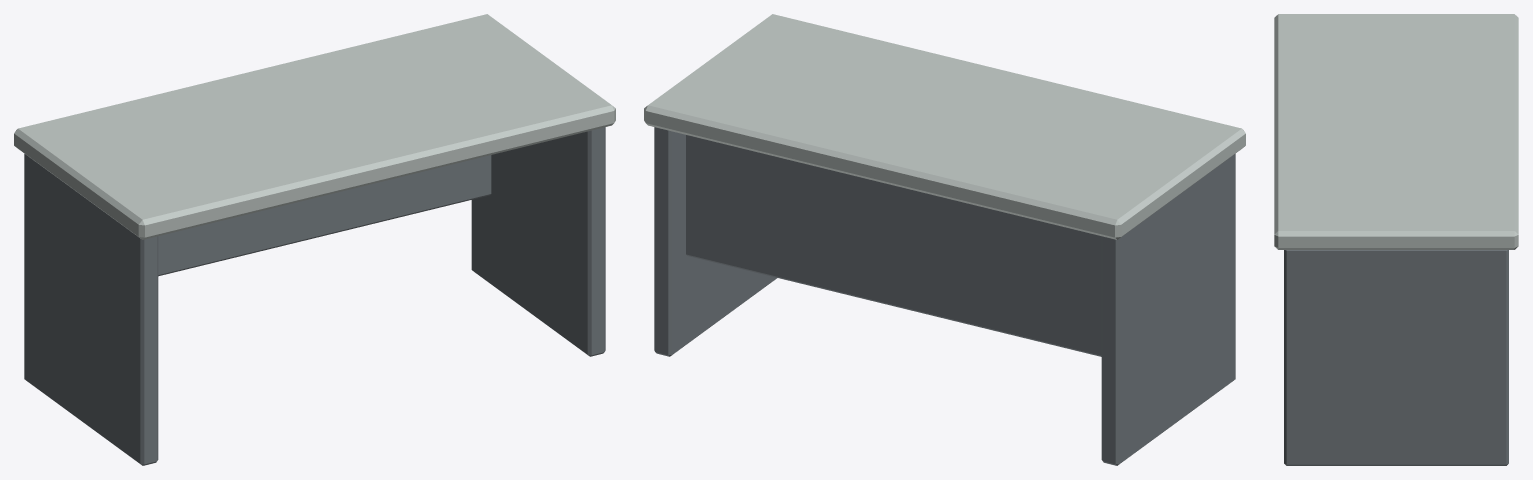
The model's file is OfficeDesk.fbx.
The picture shows the model from 3 angles, left to right: view 1: azimuth 30°, elevation 25°; view 2: azimuth 150°, elevation 25°; view 3: azimuth 270°, elevation 25°; orthographic projection. The views are drawn at different scales.
Parts seen in each view (by area): view 1: OfficeDesk; view 2: OfficeDesk; view 3: OfficeDesk.
Part boxes in pixels (x1,y1,x2,y2): OfficeDesk: (14,14,615,465); OfficeDesk: (644,14,1245,465); OfficeDesk: (1274,14,1518,465).
Size of the model in its own units: 160 by 80.25 by 75.
1 material, 1 textured.
